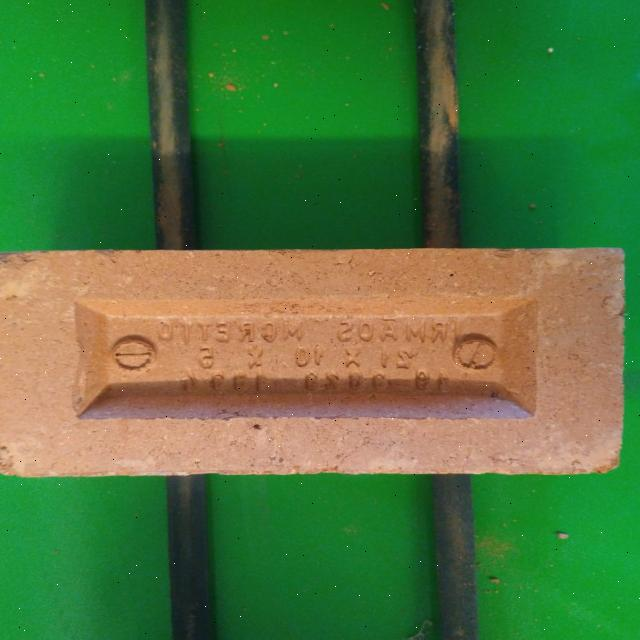bricks: (0, 248, 621, 475), (474, 240, 482, 241)
